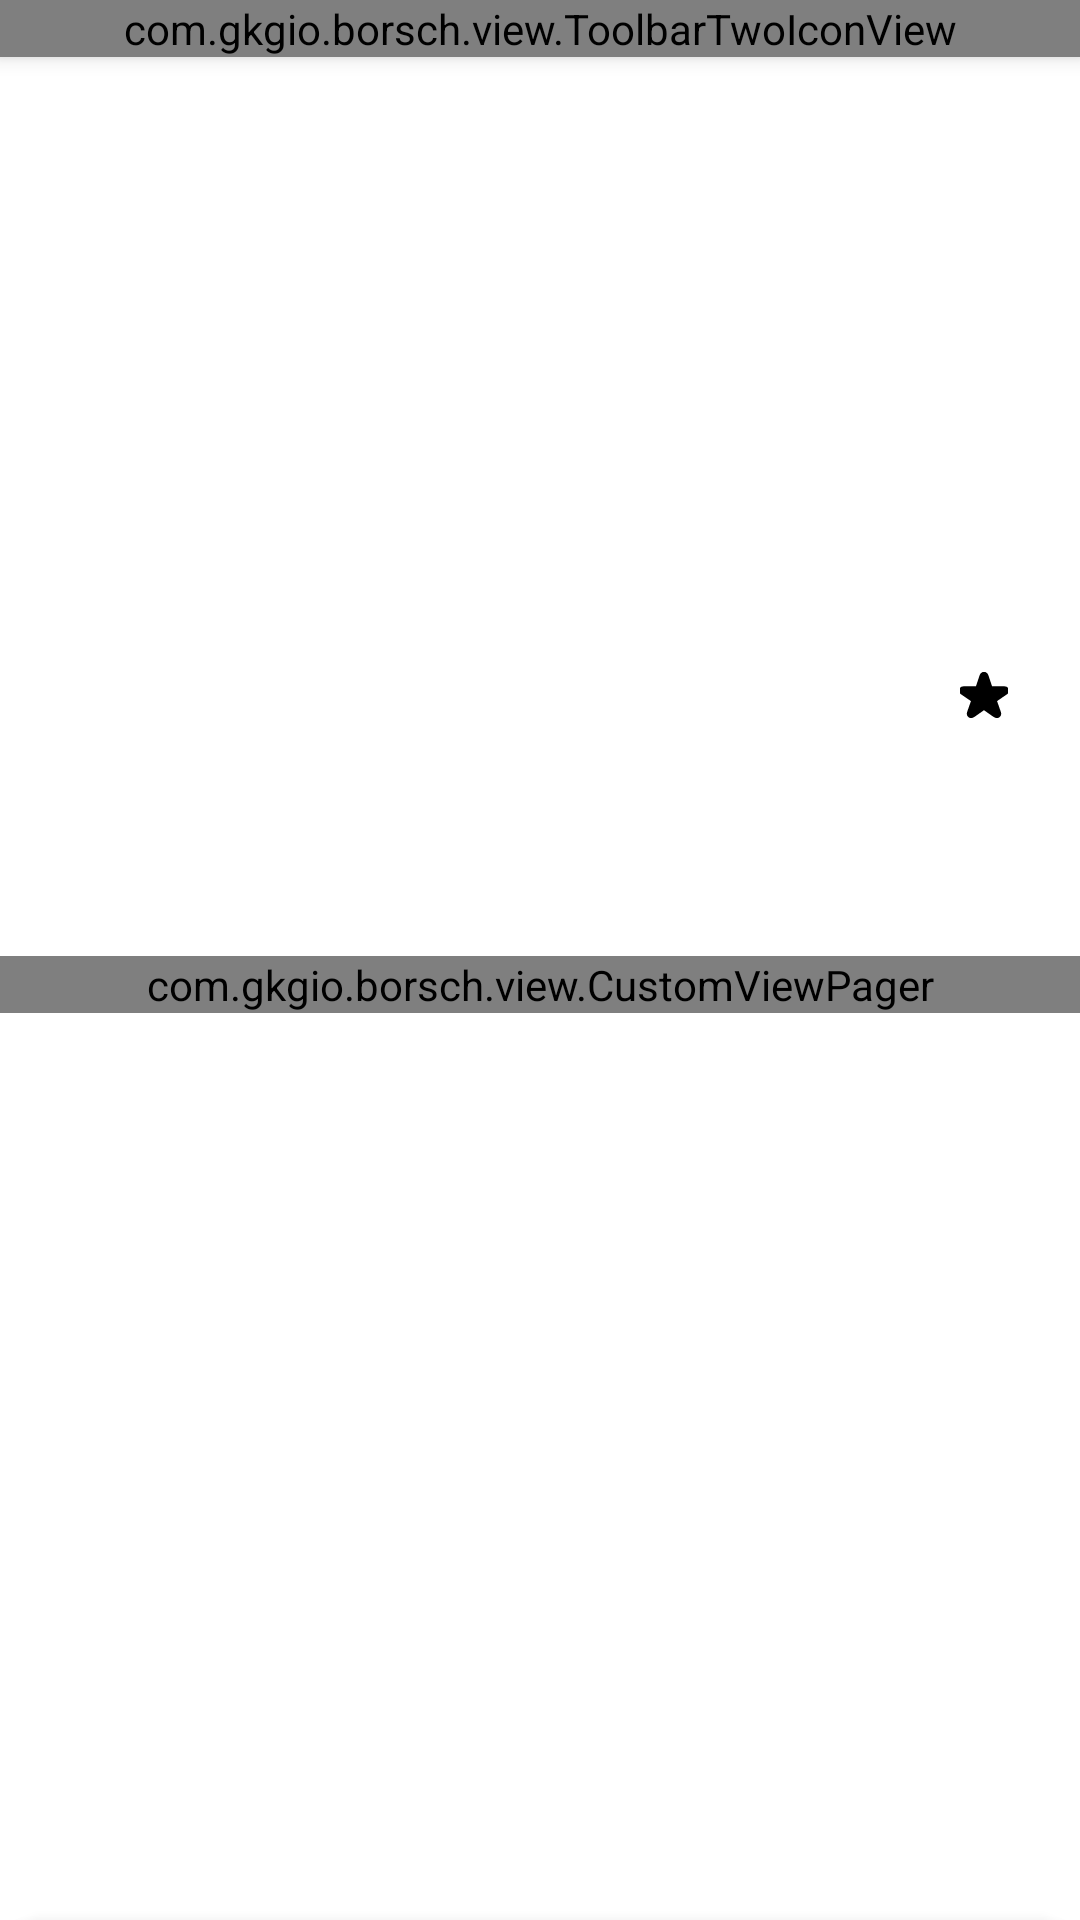

Named icons in this screenshot (1080w x 1920h) and their centers, (x,y):
ranking: (984,695)
